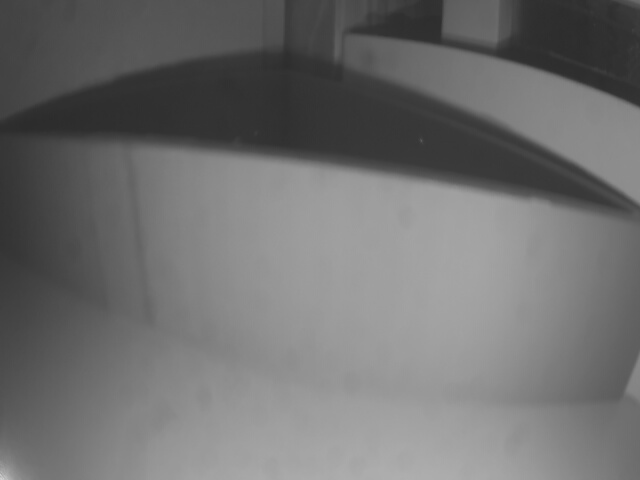Point: (0, 123, 638, 402)
